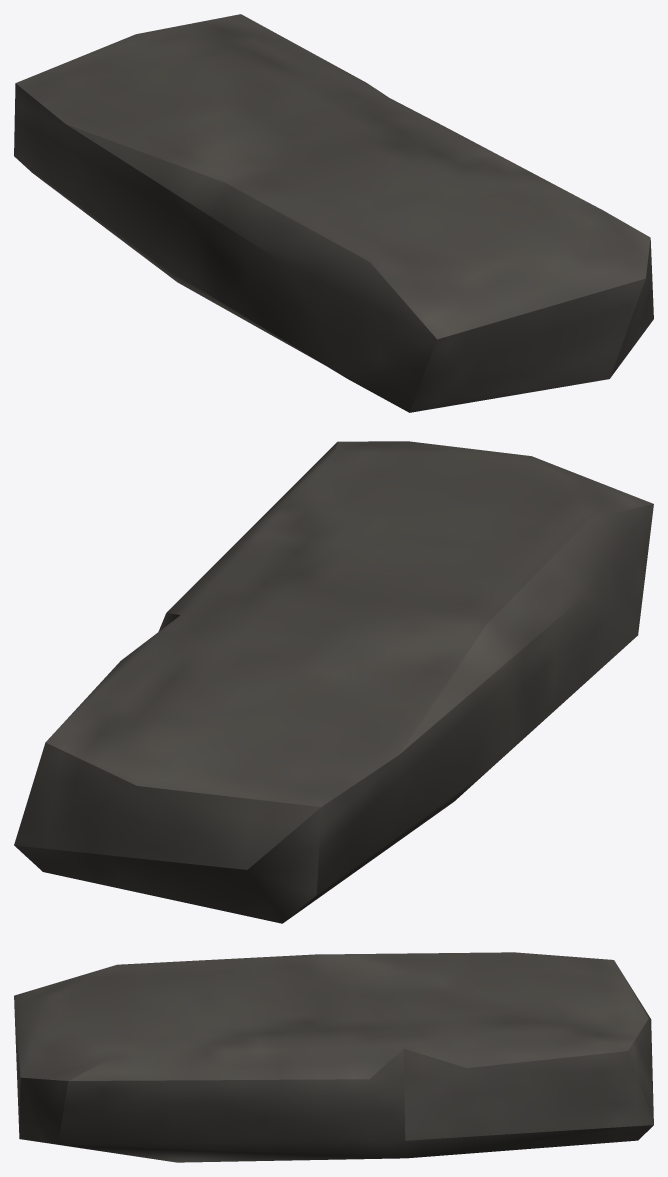
File: Stair_el5.fbx
The picture shows the model from 3 angles, top to bottom: view 1: azimuth 30°, elevation 25°; view 2: azimuth 150°, elevation 25°; view 3: azimuth 270°, elevation 25°; orthographic projection. The views are drawn at different scales.
Parts seen in each view (by area): view 1: Stair_el5; view 2: Stair_el5; view 3: Stair_el5.
Part boxes in pixels (box(x1,y1,x2,y2)): Stair_el5: box(14, 14, 653, 412); Stair_el5: box(14, 441, 653, 923); Stair_el5: box(14, 952, 653, 1162).
Size of the model in its own units: 108 by 40.5 by 222.
1 material, 1 textured.
